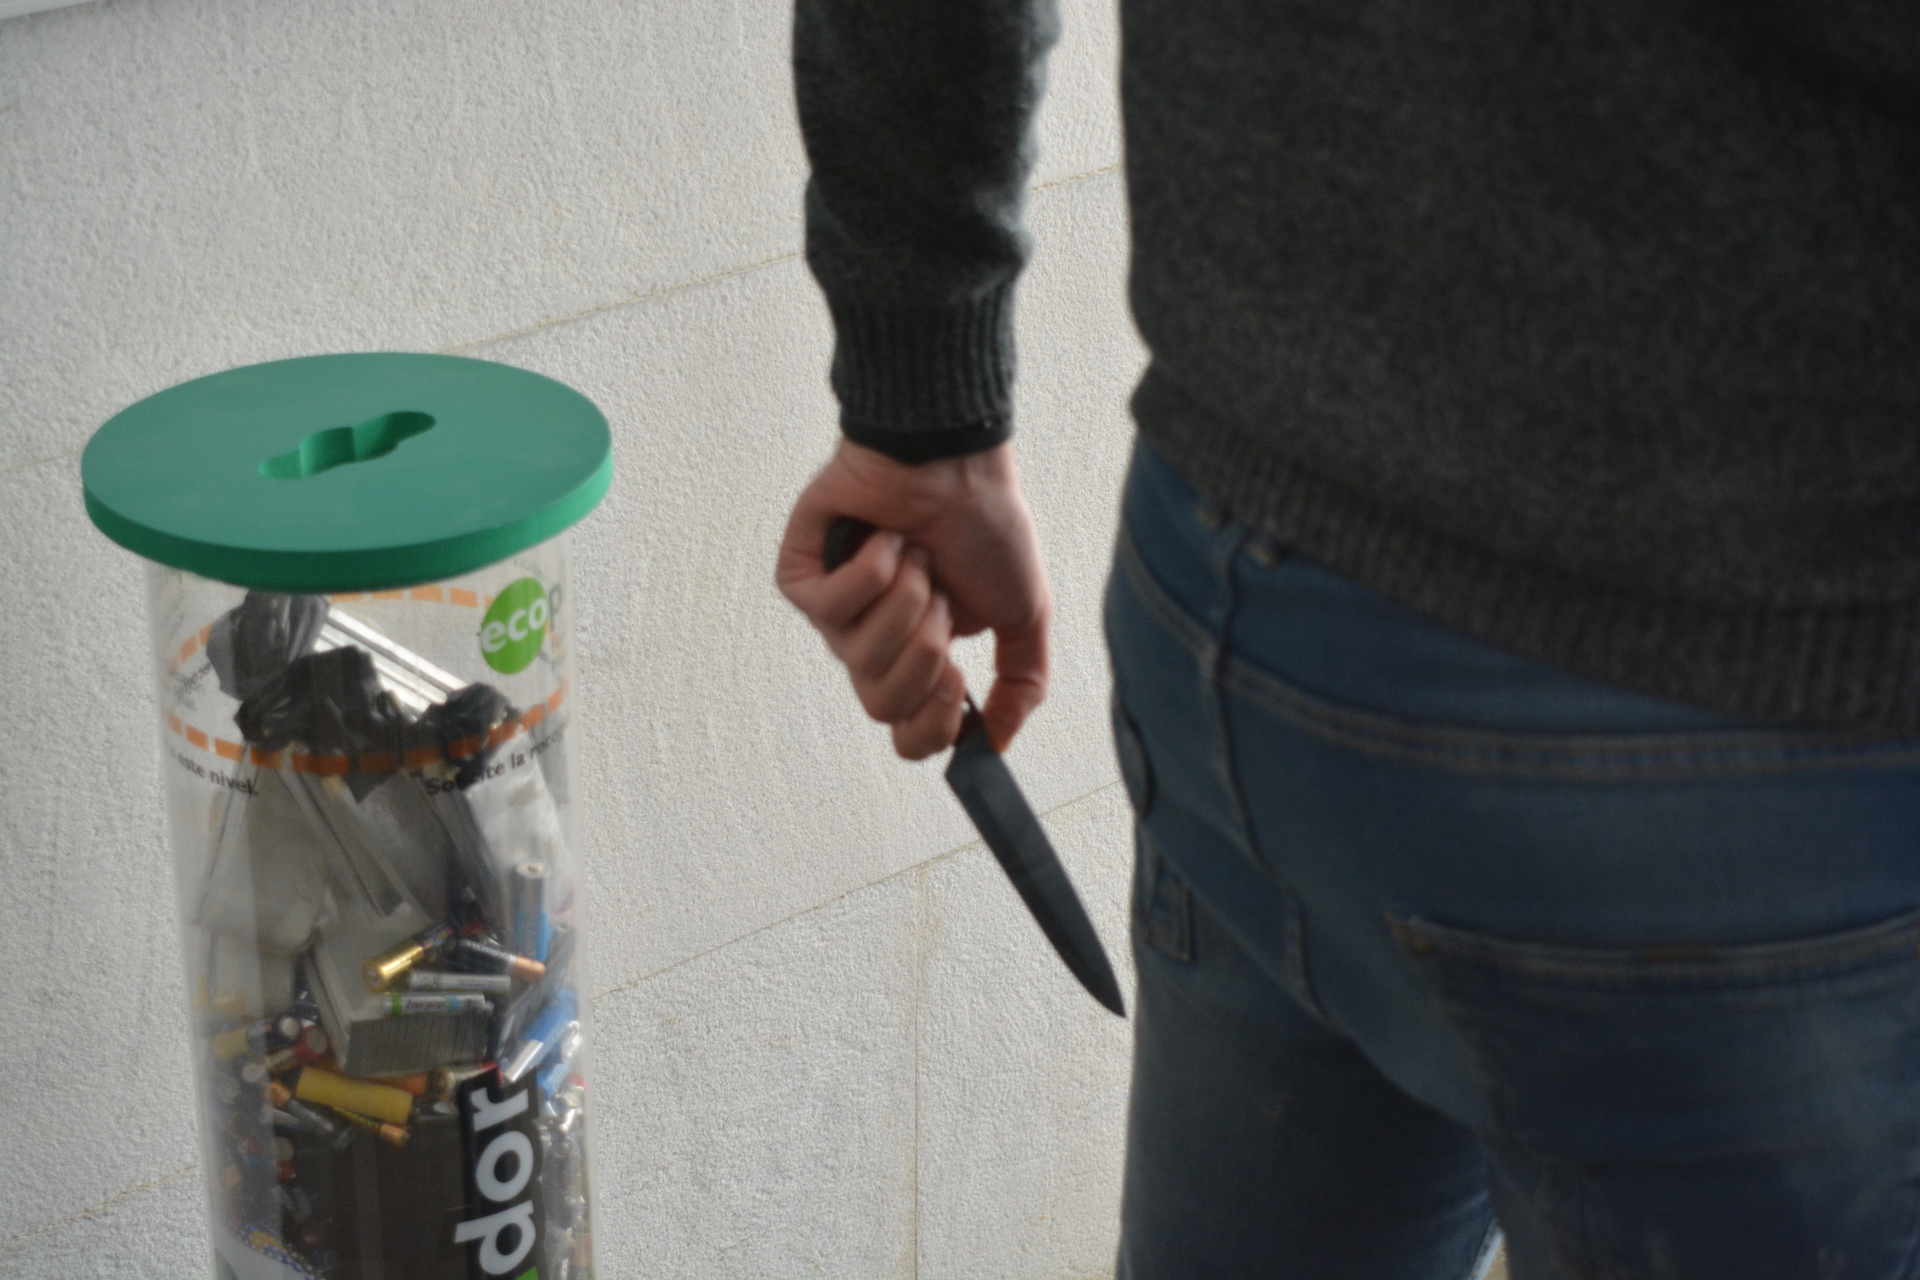knife: (811, 503, 1131, 1026)
